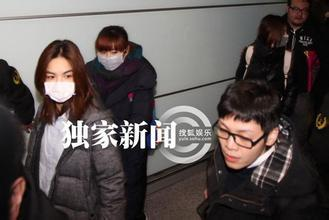NONE: (221, 125, 262, 170), (289, 5, 310, 24)
OK: (43, 65, 78, 100), (99, 48, 124, 71), (273, 27, 290, 48)
